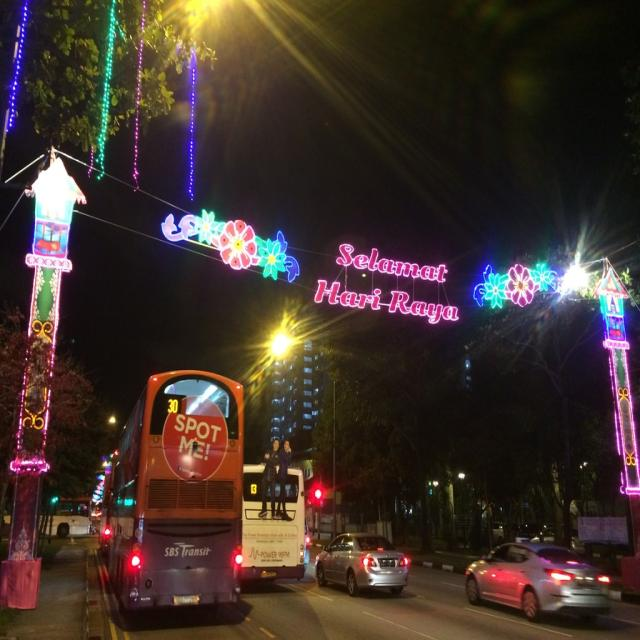car: (457, 543, 611, 627), (314, 529, 406, 596)
